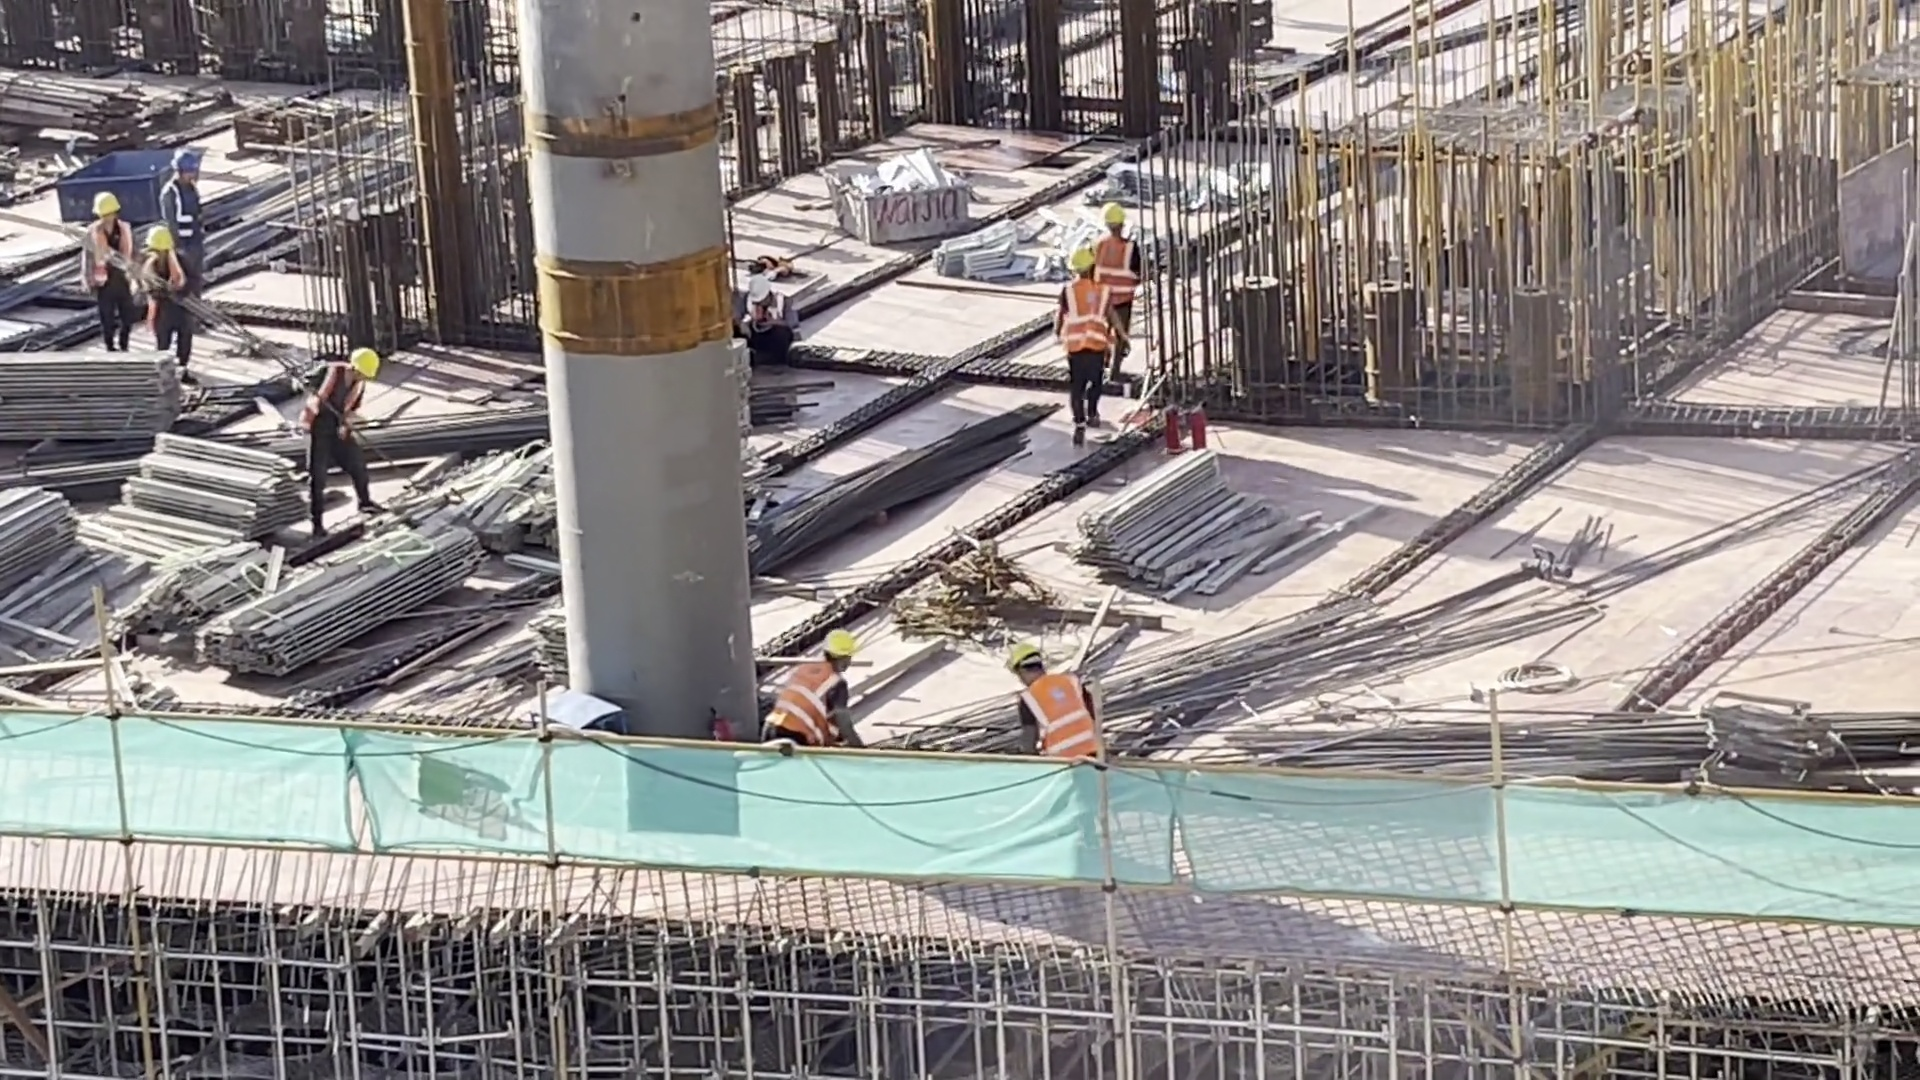helmet: (1000, 646, 1049, 676), (817, 632, 858, 663), (84, 179, 119, 216), (166, 138, 201, 176), (344, 348, 385, 379), (144, 215, 170, 254), (1063, 243, 1096, 271), (1104, 202, 1133, 231), (744, 271, 771, 293)
hopper: (825, 138, 980, 242), (48, 131, 186, 215)
person: (985, 632, 1117, 779), (307, 316, 385, 538), (1043, 243, 1126, 439), (773, 601, 874, 761), (63, 198, 143, 346), (712, 258, 801, 361), (1089, 202, 1147, 357), (141, 222, 193, 358), (162, 143, 214, 254)
vest: (1012, 665, 1101, 756), (1056, 264, 1118, 375), (762, 664, 845, 735), (311, 360, 369, 448), (1085, 226, 1132, 306), (82, 217, 134, 278), (156, 174, 204, 230), (147, 249, 184, 300)
wood: (211, 494, 486, 676), (1064, 434, 1270, 605), (112, 427, 303, 561), (1, 341, 189, 469)
